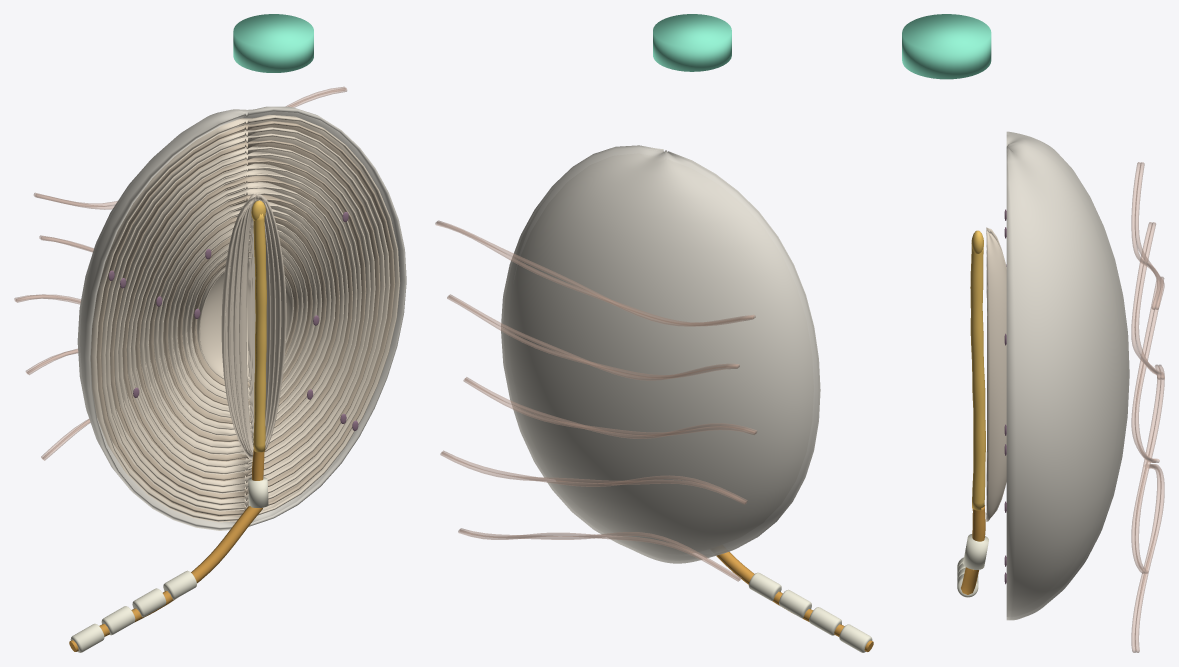
Rendered from pacinian-CyZyU11_.glb.
3 views of the same model, side by side, from view 1: azimuth 30°, elevation 25°; view 2: azimuth 150°, elevation 25°; view 3: azimuth 270°, elevation 25° (orthographic). The views are drawn at different scales.
Visible parts, largest first — view 1: pacinian__lamellae__01, pacinian__lamellae__02, pacinian__capsule__01, pacinian__lamellae__37, pacinian__stimulus-probe__01, pacinian__central-ending__01, pacinian__myelin__01, pacinian__dermis__01, pacinian__axon__01, pacinian__lamellae__03; view 2: pacinian__capsule__01, pacinian__dermis__01, pacinian__stimulus-probe__01, pacinian__myelin__01, pacinian__lamellae__01, pacinian__axon__01; view 3: pacinian__capsule__01, pacinian__dermis__01, pacinian__lamellae__37, pacinian__stimulus-probe__01, pacinian__central-ending__01, pacinian__myelin__01, pacinian__axon__01.
Boxes of the visible parts, x1,y1,x2,y2 form: pacinian__lamellae__01: (90,115,399,522); pacinian__lamellae__02: (97,121,395,516); pacinian__capsule__01: (77,106,406,530); pacinian__lamellae__37: (221,193,286,459); pacinian__stimulus-probe__01: (233,14,313,72); pacinian__central-ending__01: (251,200,266,452); pacinian__myelin__01: (70,477,268,652); pacinian__dermis__01: (14,86,347,460); pacinian__axon__01: (69,449,264,651); pacinian__lamellae__03: (108,212,358,430); pacinian__capsule__01: (501,145,820,563); pacinian__dermis__01: (435,220,757,581); pacinian__stimulus-probe__01: (653,14,731,71); pacinian__myelin__01: (748,572,872,652); pacinian__lamellae__01: (555,290,755,552); pacinian__axon__01: (716,551,873,651); pacinian__capsule__01: (1006,131,1129,620); pacinian__dermis__01: (1131,162,1164,652); pacinian__lamellae__37: (986,227,1006,521); pacinian__stimulus-probe__01: (902,14,991,79); pacinian__central-ending__01: (970,230,985,510); pacinian__myelin__01: (957,534,988,597); pacinian__axon__01: (961,505,985,594).
Size of the model in its own units: 1.96 by 3.03 by 1.12.
